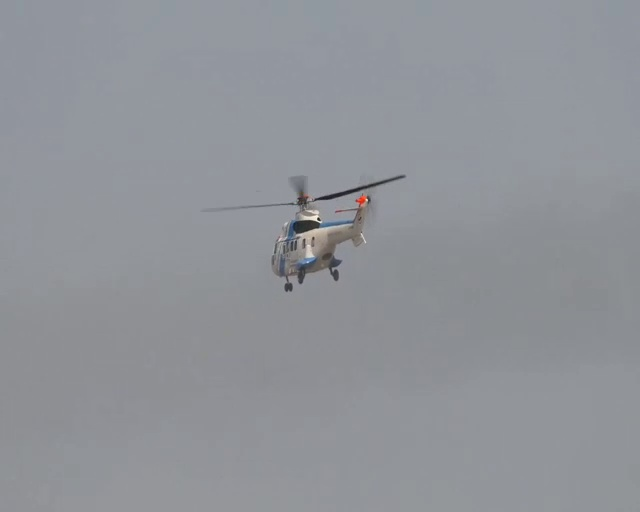HELICOPTER: (201, 173, 406, 293)
